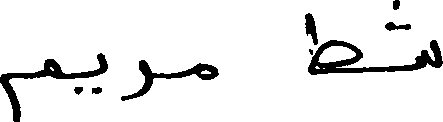ر: (120, 58, 150, 102)
ش: (382, 0, 441, 70)
ط: (306, 10, 360, 75)
م: (0, 56, 62, 119), (194, 61, 218, 80)
ي: (72, 51, 107, 95)
